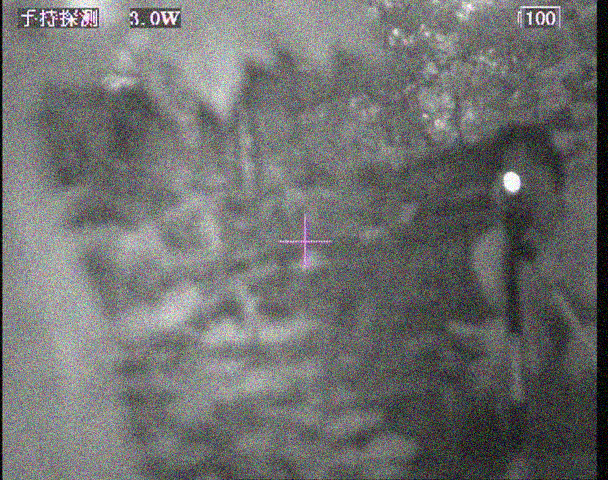my: (500, 171, 524, 194)
